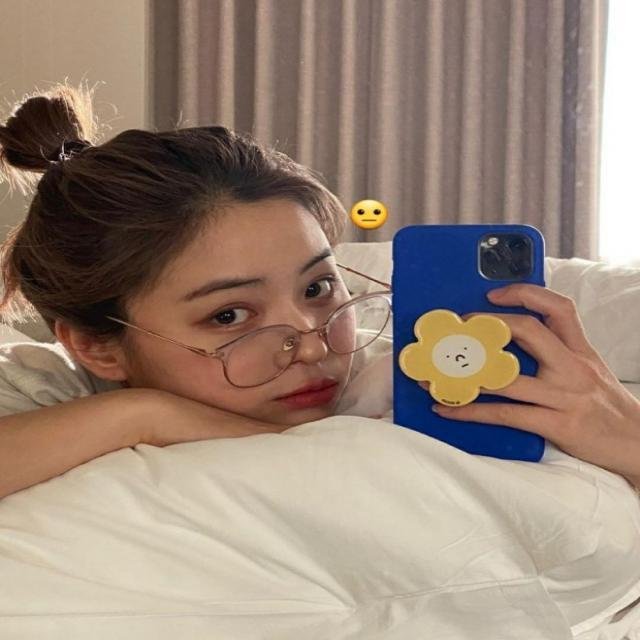Mobile: (390, 220, 552, 466)
